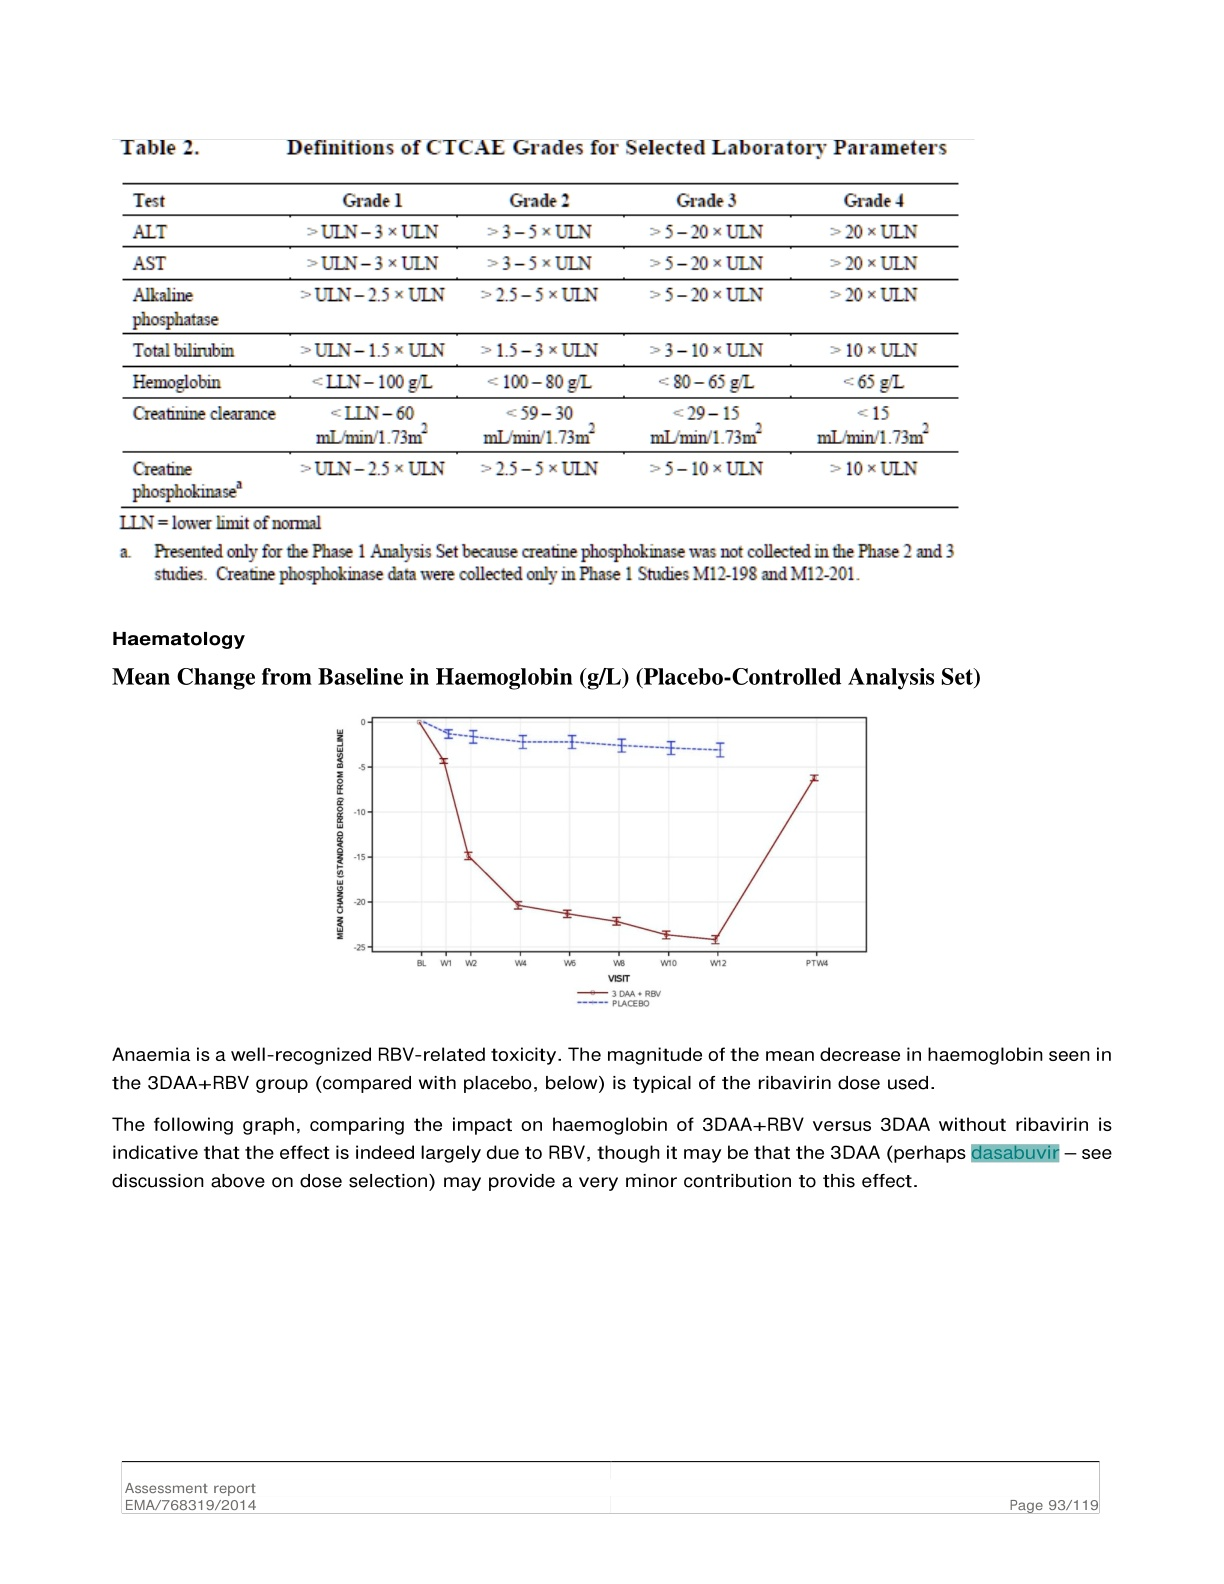partial_lined: (120, 180, 960, 510)
